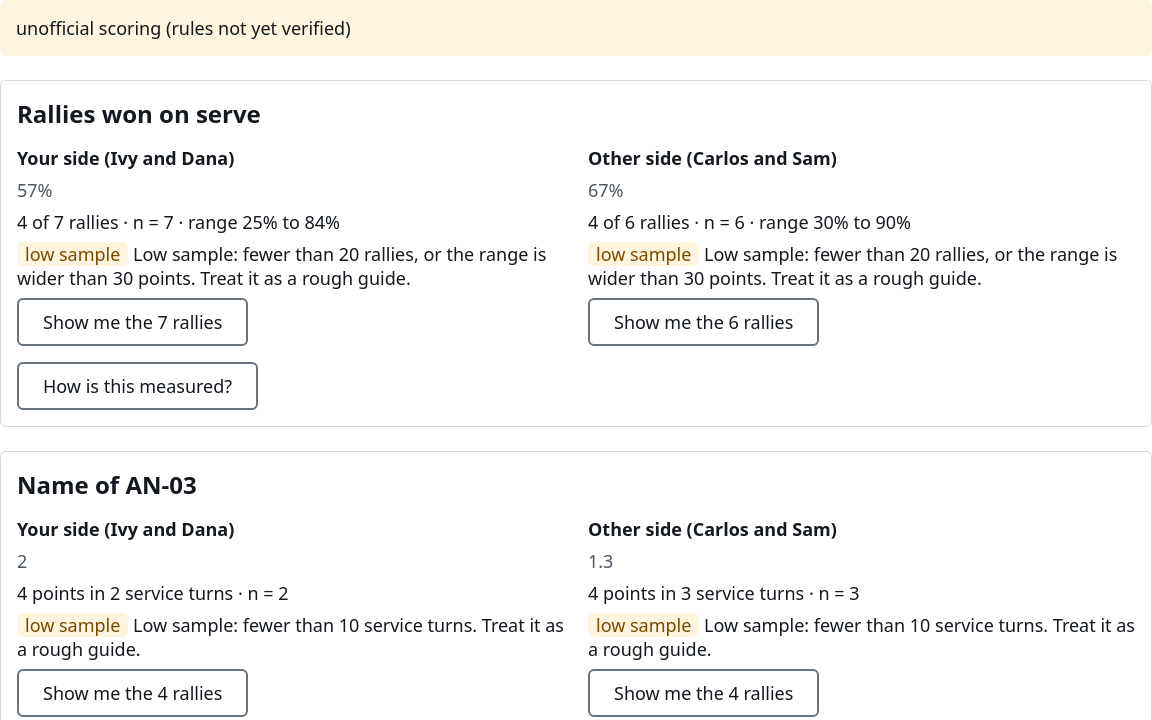
E-01 "Show me" panel (ST-047; E2E-03-02, E2E-03-09) › error: an alert in the panel with Try again and no rally links; Try again lists them
The width and height of the screenshot is (1152, 720).
Expected: the heading "Rallies won on serve" is shown, [17,97,261,130]
Click the button "Show me the 7 rallies".
click(133, 322)  # box [17,298,248,346]
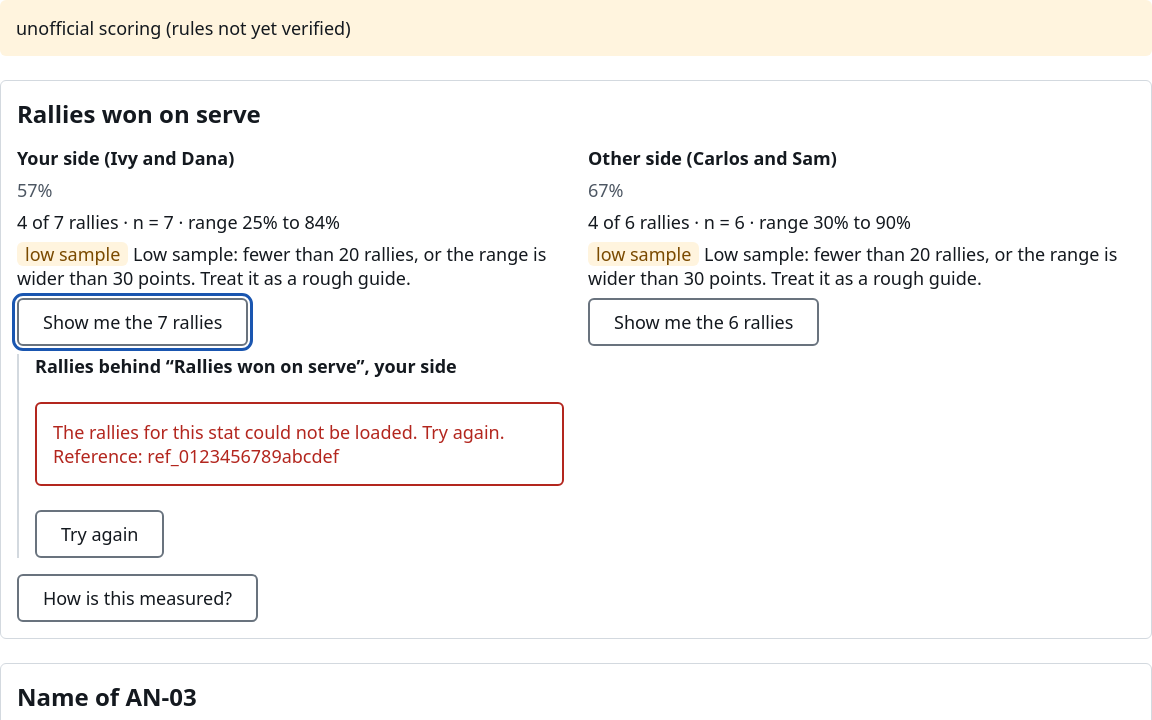
Click the button "Try again".
click(100, 534)  # box [35,510,164,558]
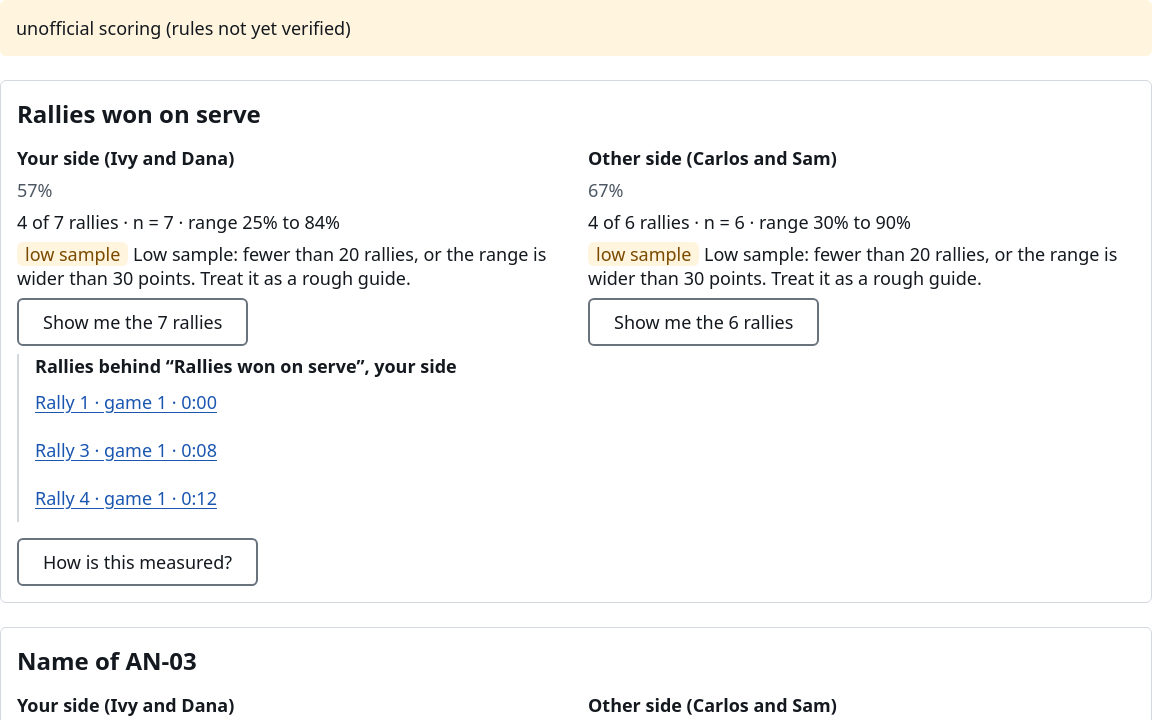
Expected: the link "Rally 1 · game 1 · 0:00" is shown, [35,390,217,414]
